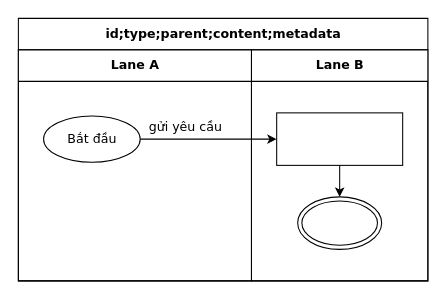
Some shapes in this 446 by 299 pixel diagram are drawn without their labels. The shapes that lost their labels are listed below. From the top down, each one's centre as x and y in pixels, then its label:
(339,138): Xử lý
(339,222): Xong
